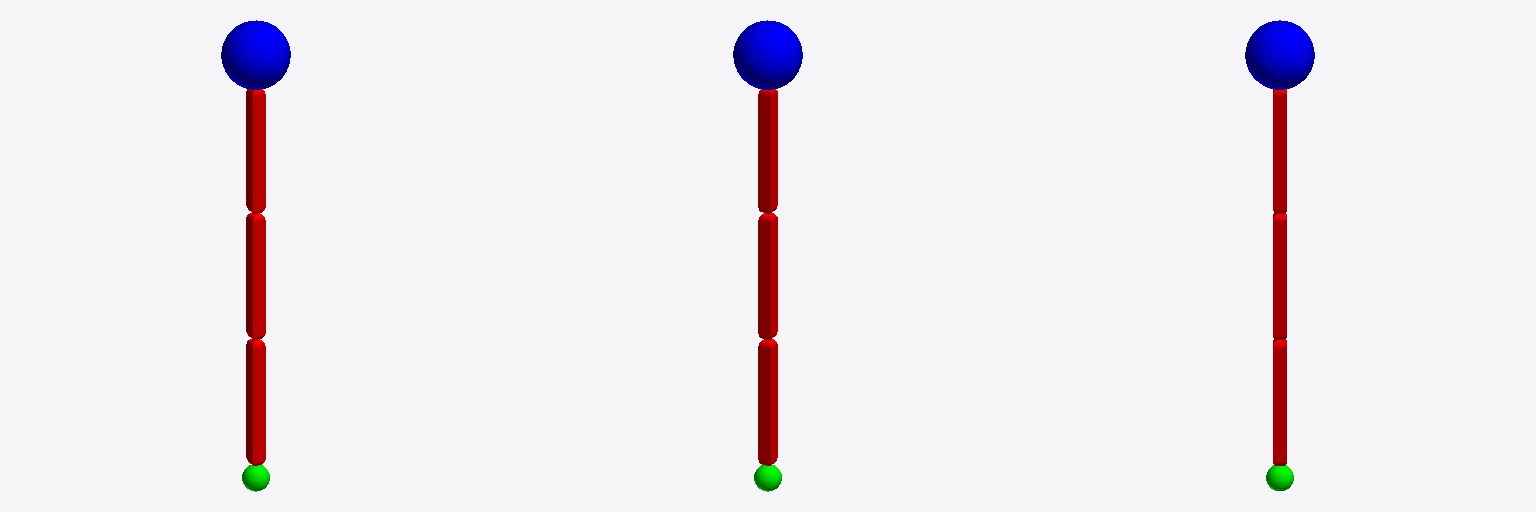
URDF robot description (simple_robot_01):
<?xml version="1.0" encoding="utf-8"?>
<robot name="simple_robot_01">
    <link name="world"/>
    <!--joint between {parent} and link_0-->
    <joint name="world_joint" type="fixed">
        <origin xyz="0 -1.0 0" rpy="0.0 0.0 0.0"/>
        <parent link="world"/>
        <child link="base_link"/>
    </joint>
    <!-- Link 0: Base -->
    <link name="base_link">
        <visual>
            <origin xyz="0 0 0" rpy="0 0 0"/>
            <geometry>
                <mesh filename="urdfs/simple_robot_01/meshes/base_link2.stl"/>
            </geometry>
            <material name="blue">
                <color rgba="0 0 1 1"/>
            </material>
        </visual>
        <collision>
            <origin xyz="0 0 0" rpy="0 0 0"/>
            <geometry>
                <mesh filename="urdfs/simple_robot_01/meshes/base_link2.stl"/>
            </geometry>
            <material name="blue">
                <color rgba="0 0 1 1"/>
            </material>
        </collision>
    </link>

    <!-- Joint 1 -->
    <joint name="joint1" type="revolute">
        <parent link="base_link"/>
        <child link="link_1"/>
        <origin xyz="0 0 -0.05" rpy="0 0 0"/>
        <axis xyz="1 0 0"/>
        <limit lower="-1.57" upper="1.57" effort="10" velocity="1"/>
    </joint>
    <!-- Joint 2 --> 
    <joint name="joint2" type="revolute">
        <parent link="link_1"/>
        <child link="link_2"/>
        <origin xyz="0 0 -1" rpy="0 0 0"/>
        <axis xyz="1 0 0"/>
        <limit lower="-1.57" upper="1.57" effort="10" velocity="1"/>
    </joint>
    <!-- Joint 3 --> 
    <joint name="joint3" type="revolute">
        <parent link="link_2"/>
        <child link="link_3"/>
        <origin xyz="0 0 -1.0" rpy="0 0 0"/>
        <axis xyz="1 0 0"/>
        <limit lower="-1.57" upper="1.57" effort="10" velocity="1"/>
    </joint>
    <!-- Joint 4 --> 
    <joint name="joint4" type="fixed">
        <parent link="link_3"/>
        <child link="end_effector"/>
        <origin xyz="0 0 -1.1" rpy="0 0 0"/>
    </joint>

    <!-- Link 1-->
    <link name="link_1">
        <visual>
            <origin xyz="0 0 -0.5" rpy="0 0 0"/>
            <geometry>
                <mesh filename="urdfs/simple_robot_01/meshes/link_x2.stl"/>
            </geometry>
            <material name="red">
                <color rgba="1 0 0 1"/>
            </material>
        </visual>
        <collision>
            <origin xyz="0 0 -0.5" rpy="0 0 0"/>
            <geometry>
                <mesh filename="urdfs/simple_robot_01/meshes/link_x2.stl"/>
            </geometry>
            <material name="red">
                <color rgba="1 0 0 1"/>
            </material>
        </collision>
        <inertial>
            <mass value="0.5"/>
            <inertia ixx="0.00" ixy="0" ixz="0" iyy="0.1" iyz="0" izz="0.00"/>
            <origin xyz="0 0 -0.5" rpy="0 0 0"/>
        </inertial>
    </link>

     <!-- Link 2: End Effector -->
    <link name="link_2">
        <visual>
            <origin xyz="0 0 -0.5" rpy="0 0 0"/>
            <geometry>
                <mesh filename="urdfs/simple_robot_01/meshes/link_x2.stl"/>
            </geometry>
            <material name="red">
                <color rgba="1 0 0 1"/>
            </material>
        </visual>
        <collision>
            <origin xyz="0 0 -0.5" rpy="0 0 0"/>
            <geometry>
                <mesh filename="urdfs/simple_robot_01/meshes/link_x2.stl"/>
            </geometry>
            <material name="red">
                <color rgba="1 0 0 1"/>
            </material>
        </collision>
       <inertial>
            <mass value="0.5"/>
            <inertia ixx="0.00" ixy="0" ixz="0" iyy="0.1" iyz="0" izz="0.00"/>
            <origin xyz="0 0 -0.5" rpy="0 0 0"/>
        </inertial>
    </link>

    <!-- Link 3: End Effector -->
    <link name="link_3">
        <visual>
            <origin xyz="0 0 -0.5" rpy="0 0 0"/>
            <geometry>
                <mesh filename="urdfs/simple_robot_01/meshes/link_x2.stl"/>
            </geometry>
            <material name="red">
                <color rgba="1 0 0 1"/>
            </material>
        </visual>
        <collision>
            <origin xyz="0 0 -0.5" rpy="0 0 0"/>
            <geometry>
                <mesh filename="urdfs/simple_robot_01/meshes/link_x2.stl"/>
            </geometry>
            <material name="red">
                <color rgba="1 0 0 1"/>
            </material>
        </collision>
       <inertial>
            <mass value="0.5"/>
            <inertia ixx="0.00" ixy="0" ixz="0" iyy="0.1" iyz="0" izz="0.00"/>
            <origin xyz="0 0 -0.5" rpy="0 0 0"/>
        </inertial>
    </link>

    <!-- End Effector -->
    <link name="end_effector">
        <visual>
            <origin xyz="0 0 0" rpy="0 0 0"/>
            <geometry>
                <mesh filename="urdfs/simple_robot_01/meshes/end_effector2.stl"/>
            </geometry>
            <material name="green">
                <color rgba="0 1 0 1"/>
            </material>
        </visual>
        <collision>
            <origin xyz="0 0 0" rpy="0 0 0"/>
            <geometry>
                <mesh filename="urdfs/simple_robot_01/meshes/end_effector2.stl"/>
            </geometry>
            <material name="green">
                <color rgba="0 1 0 1"/>
            </material>
        </collision>
    </link>
</robot>

--- Facts derived from the render (not from the file) ---
3 views of the same robot in one strip: view 1: azimuth 30°, elevation 25°; view 2: azimuth 150°, elevation 25°; view 3: azimuth 270°, elevation 25° (orthographic).
Model simple_robot_01 with 6 links and 5 joints (3 revolute, 2 fixed), rooted at world, posed every joint at zero.
Links seen in each view (by area): view 1: base_link, link_2, link_3, link_1, end_effector; view 2: base_link, link_2, link_3, link_1, end_effector; view 3: base_link, link_2, link_3, link_1, end_effector.
Boxes of the visible links, x1,y1,x2,y2 form: base_link: (221,20,290,89); link_2: (246,213,265,339); link_3: (246,339,265,465); link_1: (246,89,265,213); end_effector: (242,465,269,491); base_link: (733,20,802,89); link_2: (758,213,777,339); link_3: (758,339,777,465); link_1: (758,89,777,213); end_effector: (754,465,781,491); base_link: (1245,20,1314,89); link_2: (1273,213,1286,339); link_3: (1273,339,1286,465); link_1: (1273,89,1286,213); end_effector: (1266,465,1293,490).
Bounding box of the posed robot: 0.4957 × 0.4979 × 3.7 m (x, y, z).
5 mesh visuals loaded from 3 distinct referenced files (3 binary STL).
